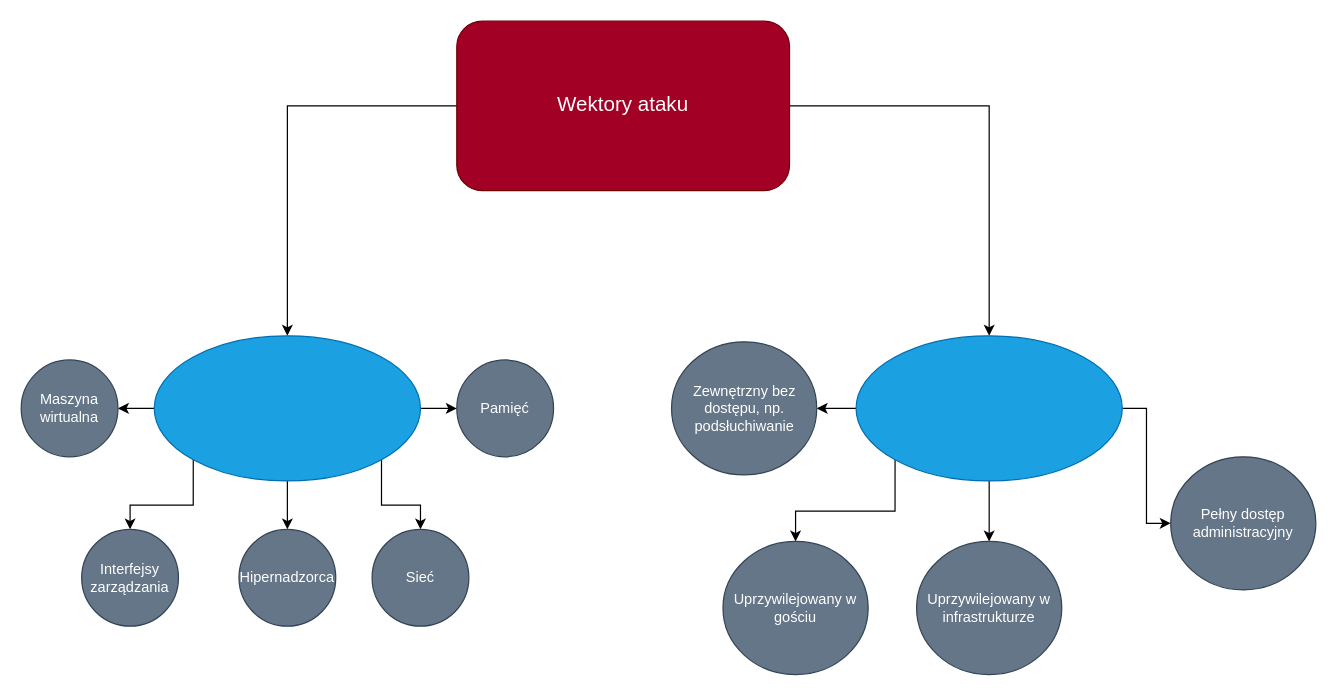
Image size: 1337x696. Some labels were removed from this diagram. The shapes that lost their labels are listed below. From the top down, each one's box as (x1, y1, x2, y2) in pixels, then its label:
(153, 335, 420, 481): Cel
(855, 335, 1122, 481): Przywileje napastnika
